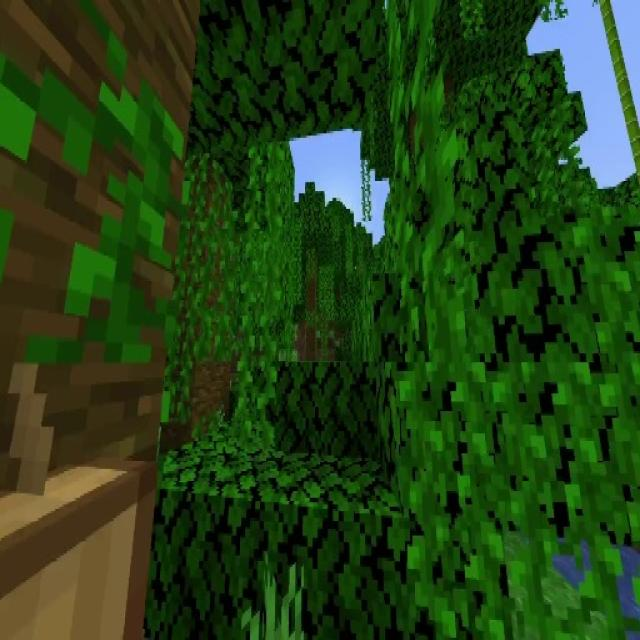jungle_log: (0, 0, 203, 640)
